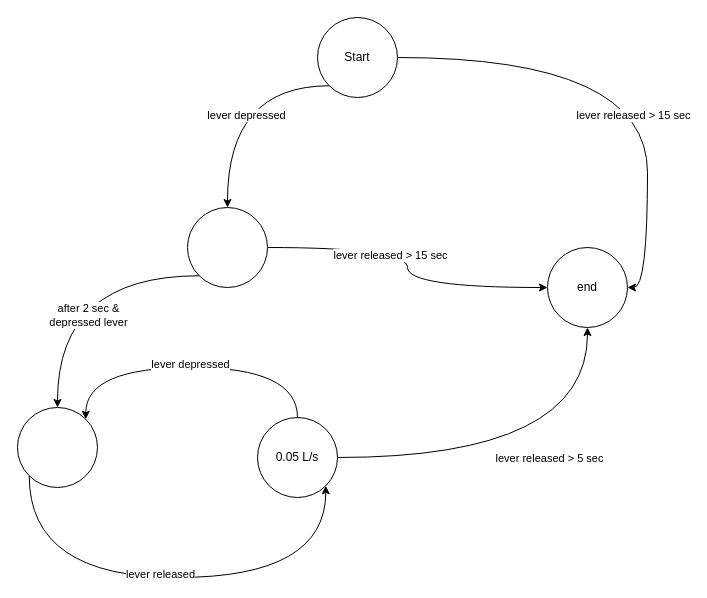
The diagram is 707 pixels wide and 598 high, and some of its shapes have lost their labels. Each missing label, with the centre of its shape:
0.3 L/s: the point at 57,447
Begin (0.05 L/s): the point at 227,247
